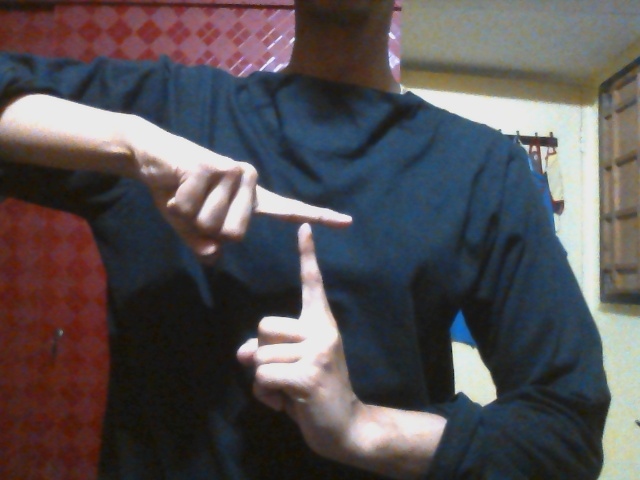T: (175, 147, 378, 432)
